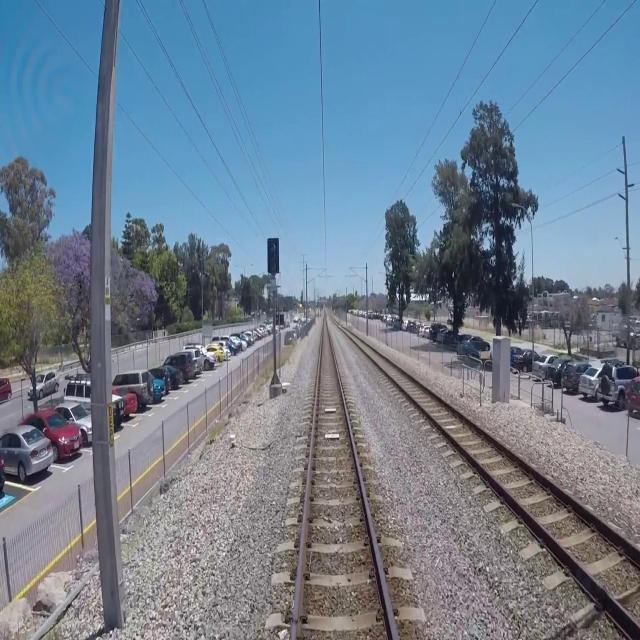rail-track: (351, 335, 640, 622), (296, 321, 393, 639)
